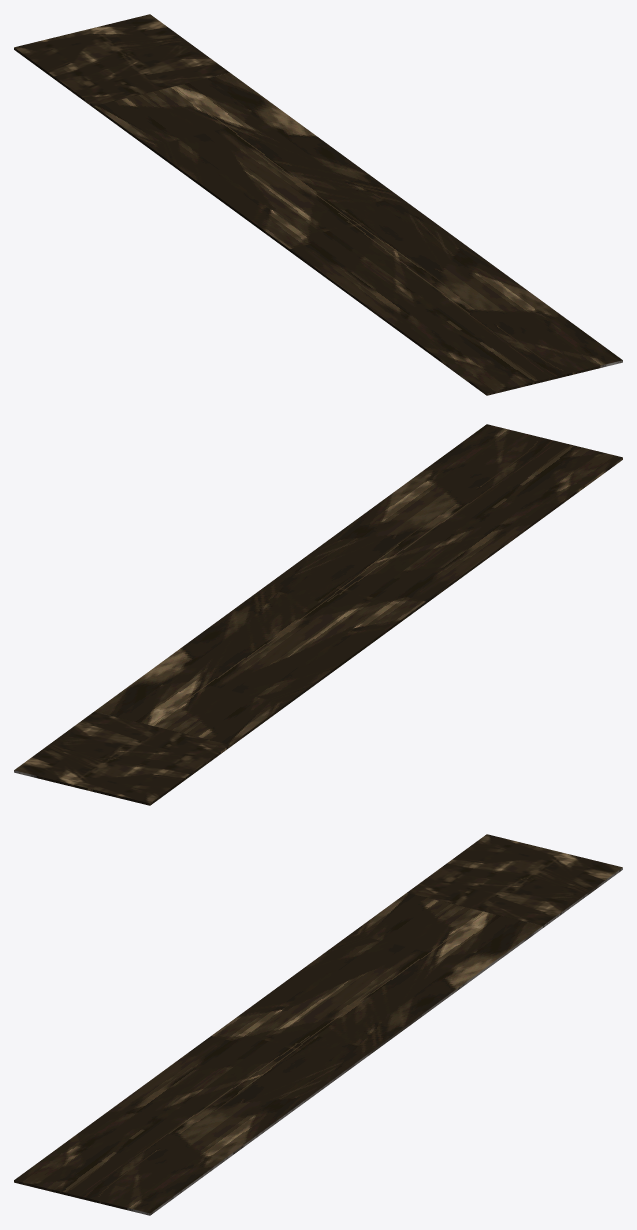
The model's file is SM_road.fbx.
The picture shows the model from 3 angles, top to bottom: view 1: azimuth 30°, elevation 25°; view 2: azimuth 150°, elevation 25°; view 3: azimuth 330°, elevation 25°; orthographic projection.
Parts seen in each view (by area): view 1: SM_roadFRNT; view 2: SM_roadFRNT; view 3: SM_roadFRNT.
Part boxes in pixels (x1,y1,x2,y2): SM_roadFRNT: (14,14,622,395); SM_roadFRNT: (14,424,622,805); SM_roadFRNT: (14,834,622,1215).
Size of the model in its own units: 287 by 4.69 by 1725.
